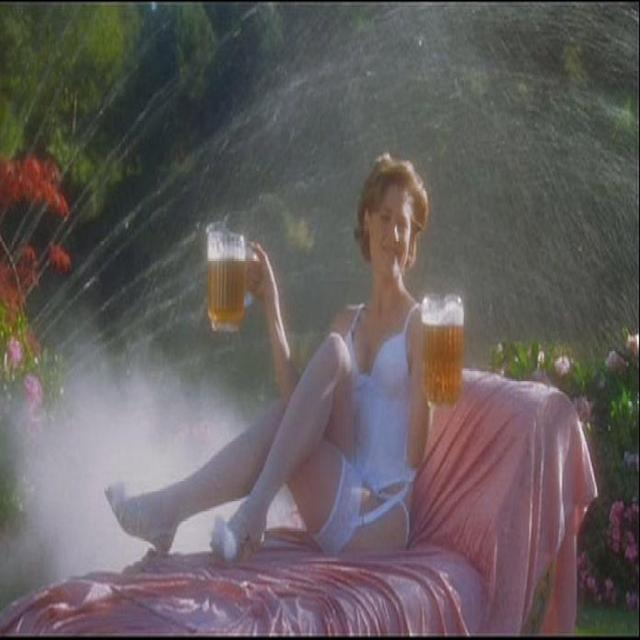nomask: (369, 189, 415, 280)
